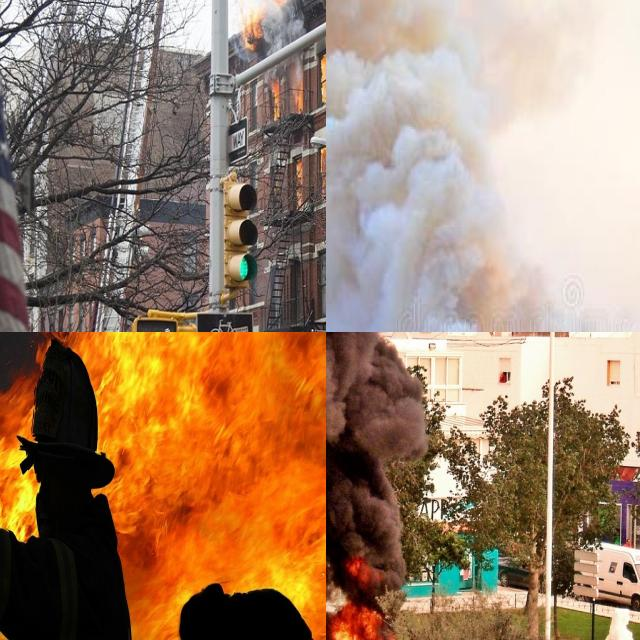fire: (0, 332, 326, 640), (326, 560, 421, 640), (240, 0, 281, 47), (289, 63, 303, 113), (314, 50, 326, 104), (292, 158, 304, 212), (268, 74, 280, 121), (317, 146, 326, 198)
smoke: (326, 0, 618, 332), (326, 332, 423, 639), (266, 13, 304, 45)
